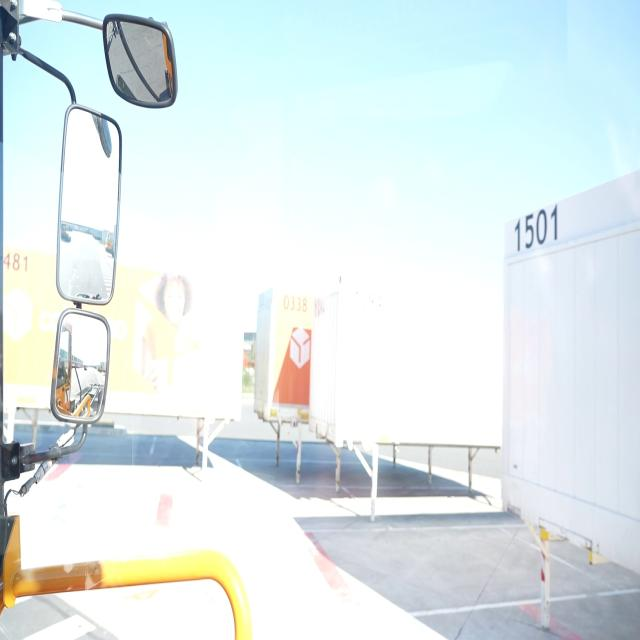Code: (510, 204, 564, 253), (279, 286, 307, 318)
